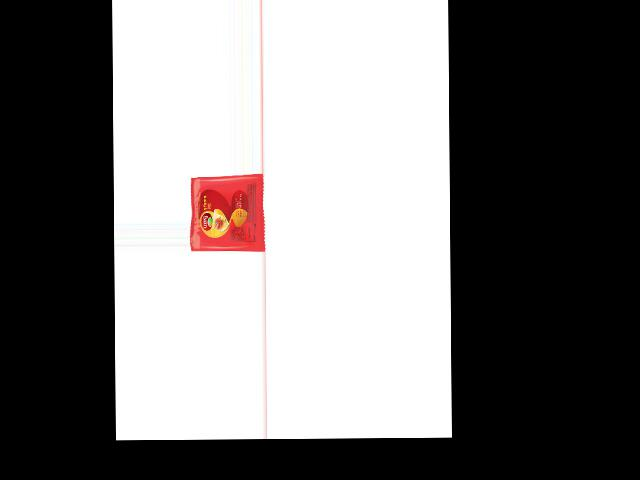cheese: (190, 176, 265, 252)
